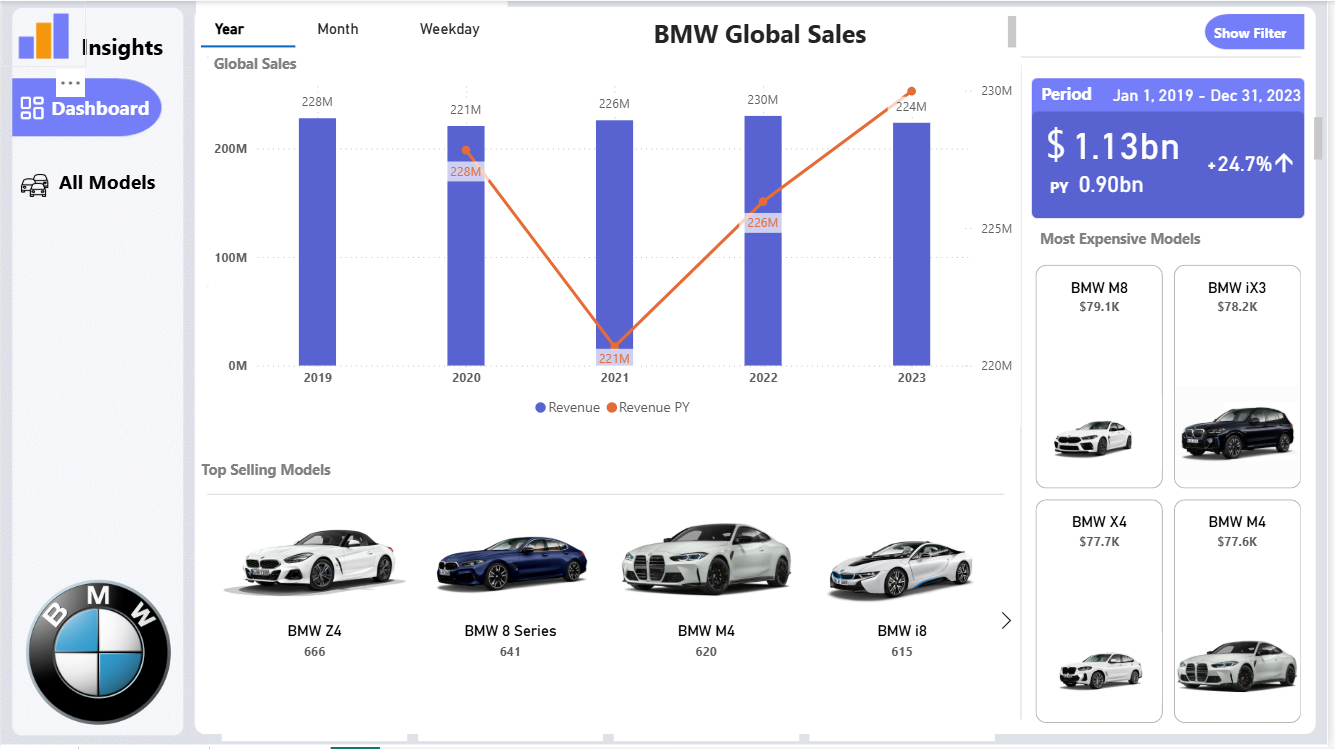

The page's visual inventory and layout, read from the dashboard file:
{"tool":"powerbi","page":{"name":"Dashboard","canvas":[1280,720],"ordinal":0},"visuals":[{"type":"lineClusteredColumnComboChart","title":"Global Sales","fields":{"Category":["Calendar.Year"],"Y":["All Measures.Revenue"],"Y2":["All Measures.Revenue PY"]},"box":[200.3,50.7,784.2,360.7],"z":0},{"type":"card","fields":{"Values":["All Measures.Revenue PY"]},"box":[1011.2,145,121.2,63.8],"z":1000},{"type":"advancedSlicerVisual","fields":{"Values":["PeriodSlicer.PeriodSlicer"]},"box":[188,0,300.5,50.8],"z":2000},{"type":"textbox","box":[1007.5,163.8,87.5,47.5],"z":3000},{"type":"card","fields":{"Values":["All Measures.Revenue"]},"box":[1025,95,121.2,82.5],"z":4000},{"type":"card","fields":{"Values":["All Measures.Revenue Variance % Arrow"]},"box":[1146.2,123.8,120,65],"z":5000},{"type":"card","fields":{"Values":["All Measures.Selected Period"]},"box":[1048.1,70,231.9,43.9],"z":6000},{"type":"textbox","box":[998.8,73.8,87.5,50],"z":7000},{"type":"advancedSlicerVisual","fields":{"Values":["Dim_Model.Model"]},"box":[188.2,476.5,797.5,243.7],"z":8000},{"type":"textbox","box":[188.2,437.9,225.6,38.6],"z":9000},{"type":"advancedSlicerVisual","fields":{"Values":["Dim_Model.Model"]},"box":[973.6,249.7,306.4,453.6],"z":10000},{"type":"textbox","box":[997.5,215,248.8,35],"z":11000},{"type":"textbox","box":[43.4,85.7,129.1,42.2],"z":17000},{"type":"image","box":[12.1,84.5,36.2,37.4],"z":18000},{"type":"image","box":[15,156.4,36.2,42.2],"z":19000},{"type":"textbox","box":[51.2,156.4,129.1,42.2],"z":20000},{"type":"actionButton","box":[11.1,149.4,159.3,49.5],"z":21000},{"type":"textbox","box":[1002.5,107.5,277.5,55],"z":22000},{"type":"actionButton","box":[1155.7,10,100,40],"z":25000},{"type":"image","box":[0,553.8,187.5,150],"z":26000},{"type":"textbox","box":[72.5,23.8,115,42.5],"z":27000},{"type":"image","box":[0,0,82.5,63.8],"z":28000},{"type":"textbox","box":[489,10,496,41],"z":29000}]}

Visuals, with their boxes on the page's 1280x720 design canvas (x1, y1, x2, y2). These are canvas units, not pixel positions in the 1335x749 screenshot, which may show the page scaled, cropped or inside an application window:
"Global Sales" lineClusteredColumnComboChart: locate(200, 51, 984, 411)
card - All Measures.Revenue PY: locate(1011, 145, 1132, 209)
advancedSlicerVisual - PeriodSlicer.PeriodSlicer: locate(188, 0, 488, 51)
textbox: locate(1008, 164, 1095, 211)
card - All Measures.Revenue: locate(1025, 95, 1146, 178)
card - All Measures.Revenue Variance % Arrow: locate(1146, 124, 1266, 189)
card - All Measures.Selected Period: locate(1048, 70, 1280, 114)
textbox: locate(999, 74, 1086, 124)
advancedSlicerVisual - Dim_Model.Model: locate(188, 476, 986, 720)
textbox: locate(188, 438, 414, 476)
advancedSlicerVisual - Dim_Model.Model: locate(974, 250, 1280, 703)
textbox: locate(998, 215, 1246, 250)
textbox: locate(43, 86, 172, 128)
image: locate(12, 84, 48, 122)
image: locate(15, 156, 51, 199)
textbox: locate(51, 156, 180, 199)
actionButton: locate(11, 149, 170, 199)
textbox: locate(1002, 108, 1280, 162)
actionButton: locate(1156, 10, 1256, 50)
image: locate(0, 554, 188, 704)
textbox: locate(72, 24, 188, 66)
image: locate(0, 0, 82, 64)
textbox: locate(489, 10, 985, 51)
